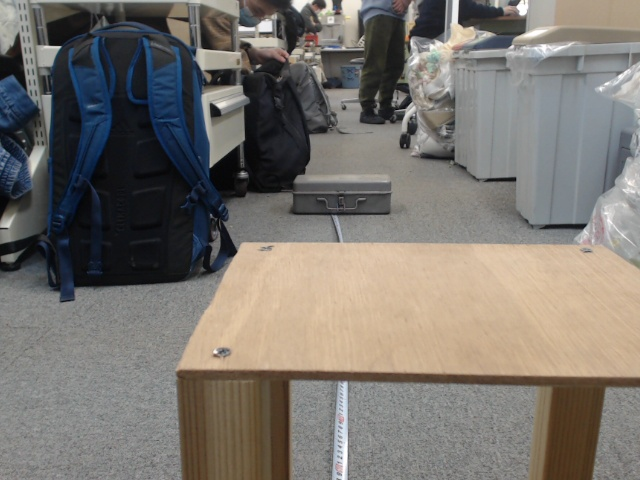desk: (246, 160, 472, 407)
